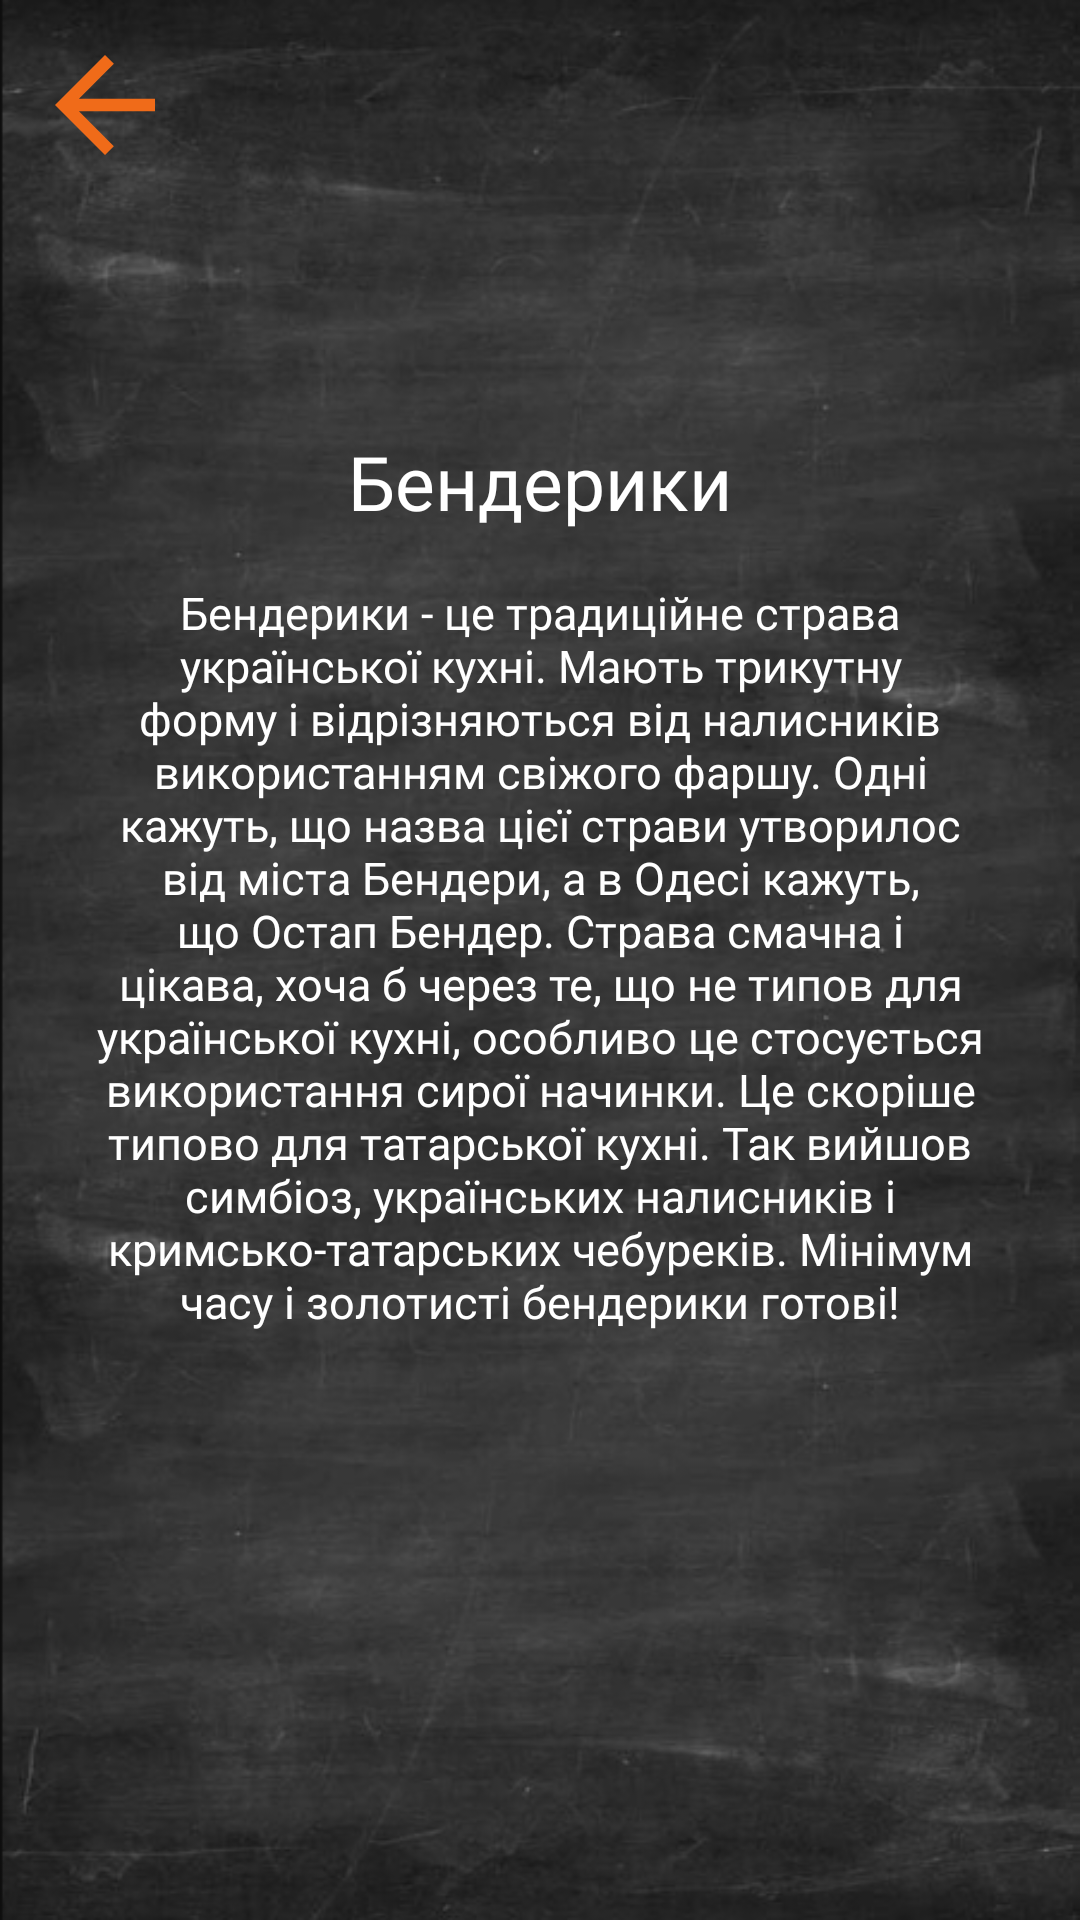

Locate icon controls on the screen. Image size 1080 x 1920, boxes as bbox=[x1, y1, x2, y2].
arrow back: bbox=[51, 55, 169, 180]
